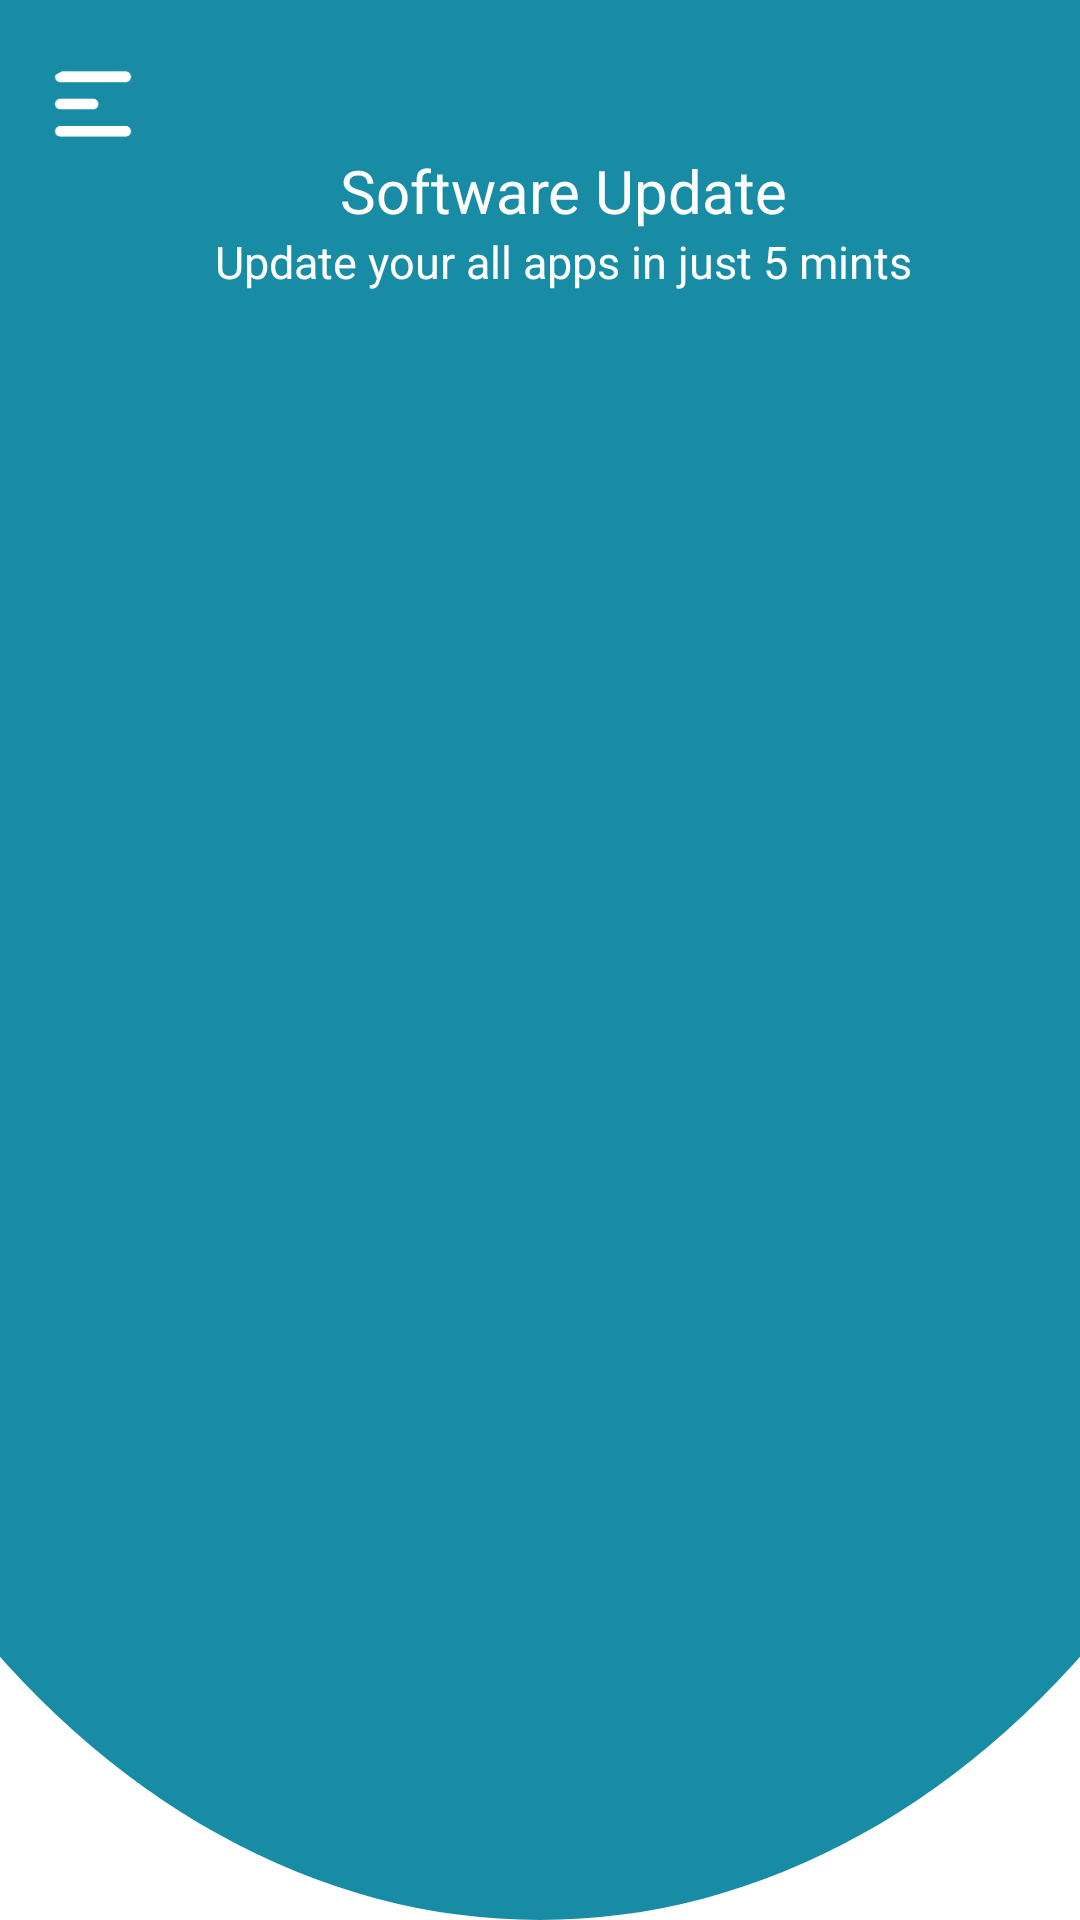

Icon bounding boxes for this 1080px x 1920px phone screenshot, format (x1, y1, x2, y2):
menu: (54, 71, 132, 137)
